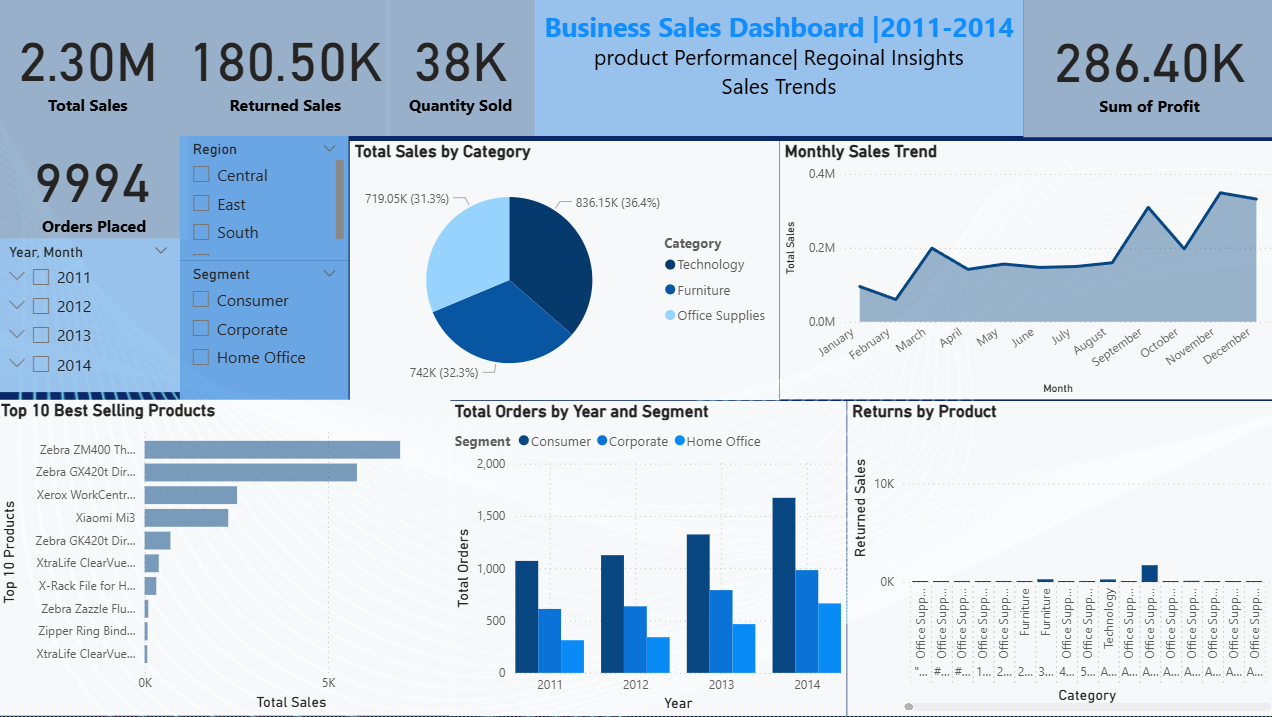

Layout of this report page (visuals, bound fields, positions):
{"tool":"powerbi","page":{"name":"Page 1","canvas":[1280,720],"ordinal":0},"visuals":[{"type":"pieChart","title":"Total Sales  by Category","fields":{"Category":["Orders.Category"],"Y":["Orders.Total Sales"]},"box":[353.8,140,430,265],"z":0},{"type":"card","fields":{"Values":["Orders.Returned Sales"]},"box":[183.9,0,211.3,140],"z":2000},{"type":"card","fields":{"Values":["Orders.Total Sales"]},"box":[0,0,183.9,140],"z":3000},{"type":"card","fields":{"Values":["Sum(Orders.Profit)"]},"box":[1027.5,0,252.5,140],"z":4000},{"type":"card","fields":{"Values":["CountNonNull(Orders.Order ID)"]},"box":[0,140,192.1,102.9],"z":5000},{"type":"slicer","fields":{"Values":["Orders.Segment"]},"box":[183.8,265,168.8,131.2],"z":6000},{"type":"slicer","fields":{"Values":["Orders.Region"]},"box":[183.9,140,168.8,124.9],"z":7000},{"type":"card","fields":{"Values":["Sum(Orders.Quantity)"]},"box":[389.7,0,149.6,140],"z":8000},{"type":"clusteredColumnChart","fields":{"Category":["DateTable.Date.Variation.Date Hierarchy.Year","DateTable.Date.Variation.Date Hierarchy.Month"],"Y":["CountNonNull(Orders.Order ID)"],"Series":["Orders.Segment"]},"box":[454.2,404.8,396.6,315.6],"z":9000},{"type":"textbox","box":[539.3,0,488.5,140],"z":10000},{"type":"barChart","title":"Top 10 Best Selling Products","fields":{"Category":["Orders.Product Name"],"Y":["Orders.Total Sales"]},"box":[0,396.2,453.8,323.8],"z":12000},{"type":"slicer","fields":{"Values":["DateTable.Date.Variation.Date Hierarchy.Year","DateTable.Date.Variation.Date Hierarchy.Month"]},"box":[0,242.9,183.9,153.7],"z":13002},{"type":"lineChart","title":"Monthly Sales Trend","fields":{"Category":["DateTable.Date.Variation.Date Hierarchy.Month"],"Y":["Orders.Total Sales"]},"box":[783.8,140,496.2,263.8],"z":13003},{"type":"columnChart","title":"Returns by Product","fields":{"Category":["Orders.Product Name","Orders.Category"],"Y":["Orders.Returned Sales"]},"box":[851,405,429,315],"z":13004}]}

Visuals, with their boxes in screenshot pixels (x1, y1, x2, y2), scaled from the page's 1280x720 canvas onto the 1272x717 screenshot:
"Total Sales  by Category" pieChart: {"left": 352, "top": 139, "right": 779, "bottom": 403}
card - Orders.Returned Sales: {"left": 183, "top": 0, "right": 393, "bottom": 139}
card - Orders.Total Sales: {"left": 0, "top": 0, "right": 183, "bottom": 139}
card - Sum(Orders.Profit): {"left": 1021, "top": 0, "right": 1271, "bottom": 139}
card - CountNonNull(Orders.Order ID): {"left": 0, "top": 139, "right": 191, "bottom": 242}
slicer - Orders.Segment: {"left": 183, "top": 264, "right": 350, "bottom": 395}
slicer - Orders.Region: {"left": 183, "top": 139, "right": 350, "bottom": 264}
card - Sum(Orders.Quantity): {"left": 387, "top": 0, "right": 536, "bottom": 139}
clusteredColumnChart - DateTable.Date.Variation.Date Hierarchy.Year x DateTable.Date.Variation.Date Hierarchy.Month: {"left": 451, "top": 403, "right": 845, "bottom": 716}
textbox: {"left": 536, "top": 0, "right": 1021, "bottom": 139}
"Top 10 Best Selling Products" barChart: {"left": 0, "top": 395, "right": 451, "bottom": 716}
slicer - DateTable.Date.Variation.Date Hierarchy.Year x DateTable.Date.Variation.Date Hierarchy.Month: {"left": 0, "top": 242, "right": 183, "bottom": 395}
"Monthly Sales Trend" lineChart: {"left": 779, "top": 139, "right": 1271, "bottom": 402}
"Returns by Product" columnChart: {"left": 846, "top": 403, "right": 1271, "bottom": 716}
